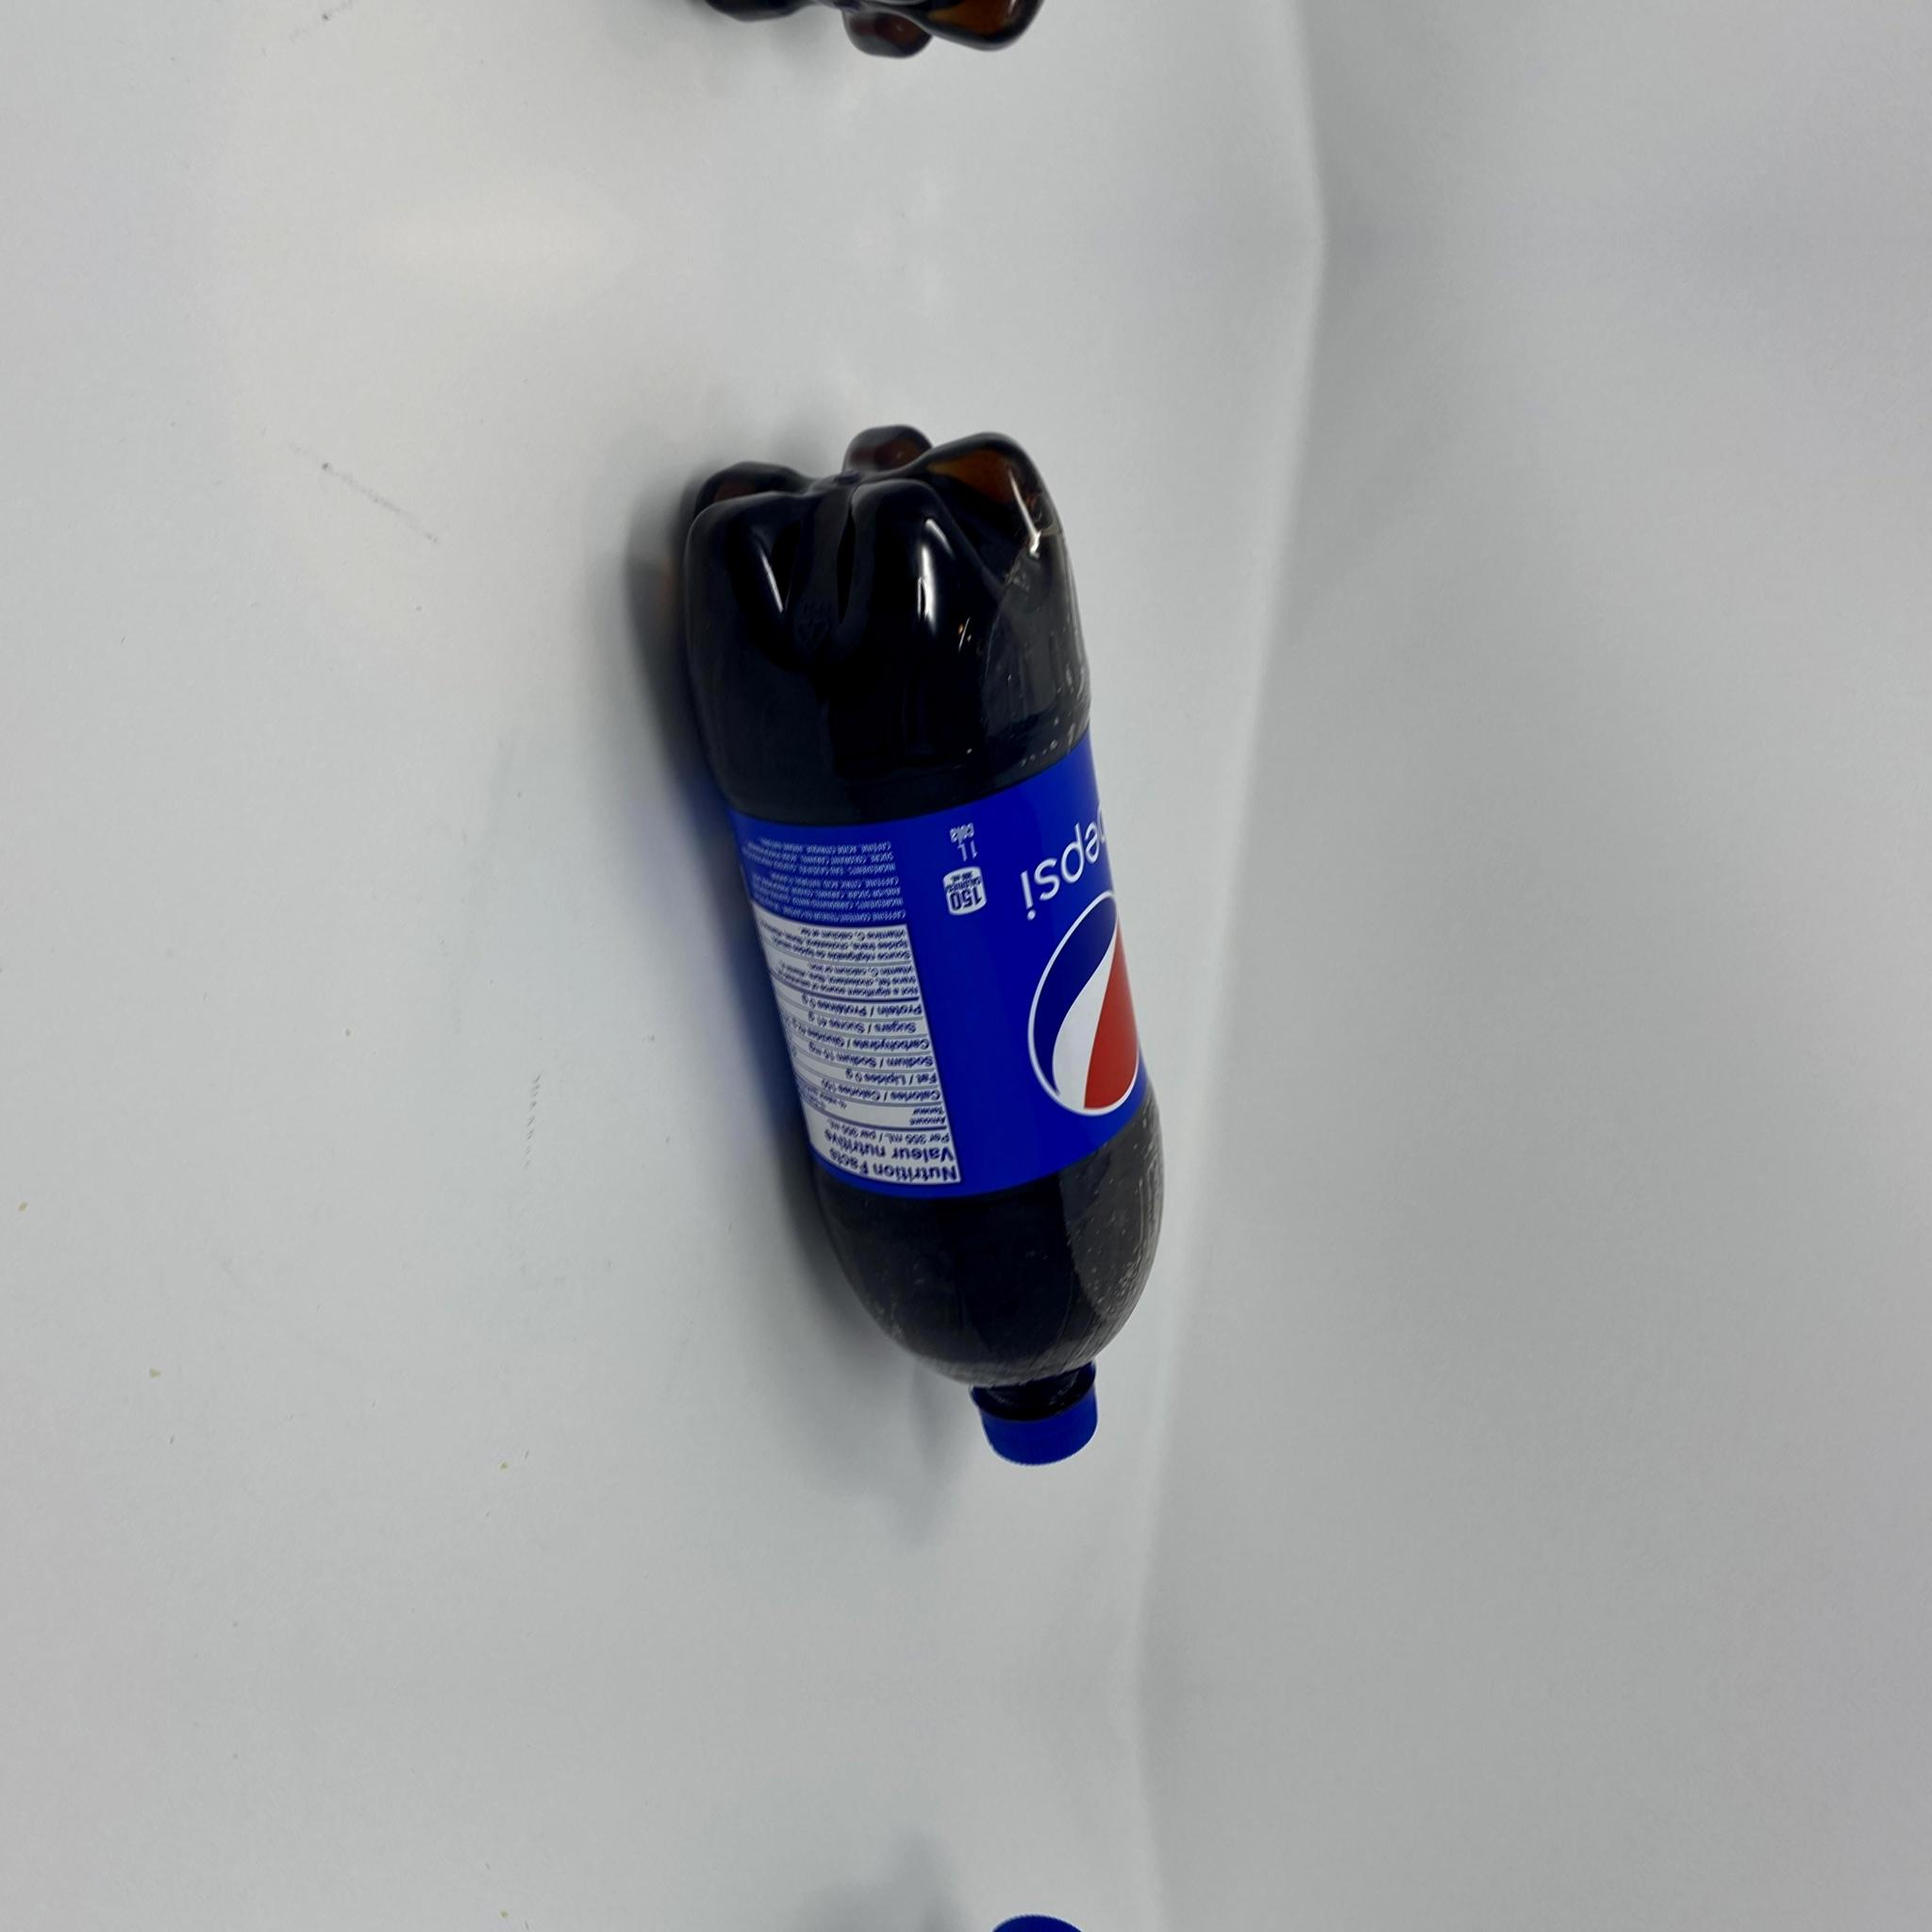PET: (676, 421, 1166, 1465)
pepsi: (676, 421, 1166, 1465)
plastic: (676, 421, 1166, 1465)
soft-drink: (676, 421, 1166, 1465)
